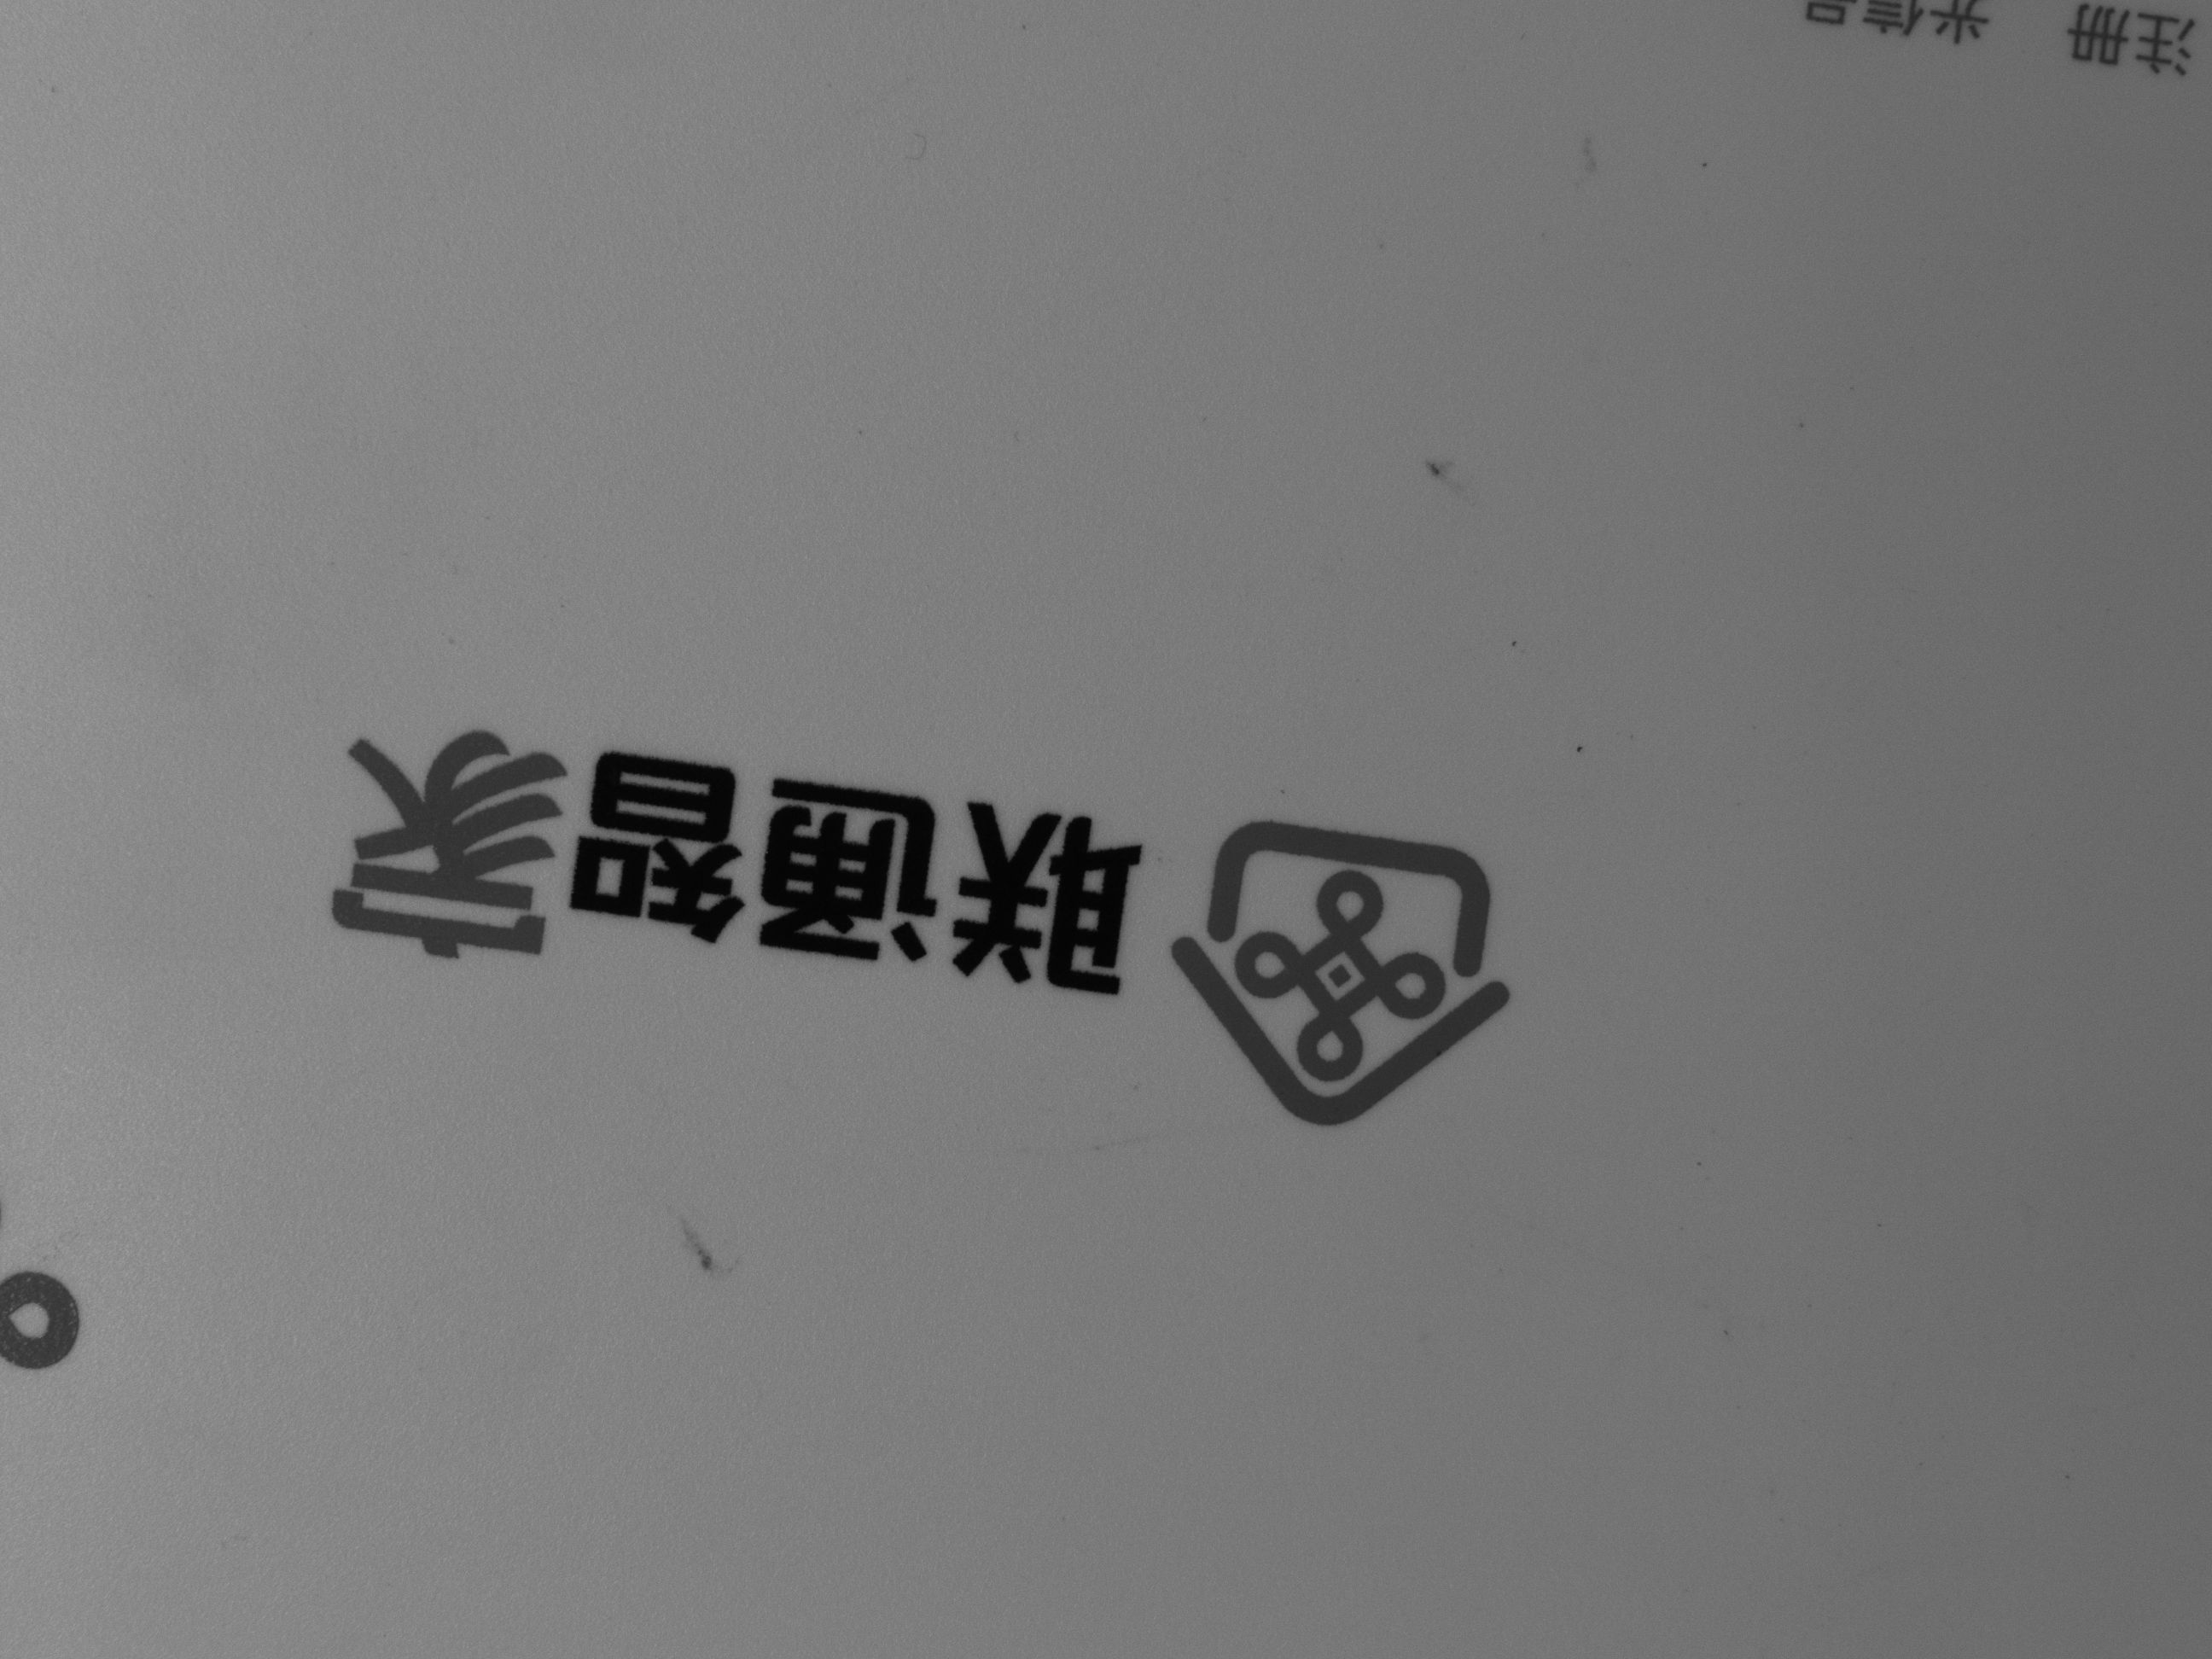BY_F6610Unicome: (249, 678, 1526, 1141)
